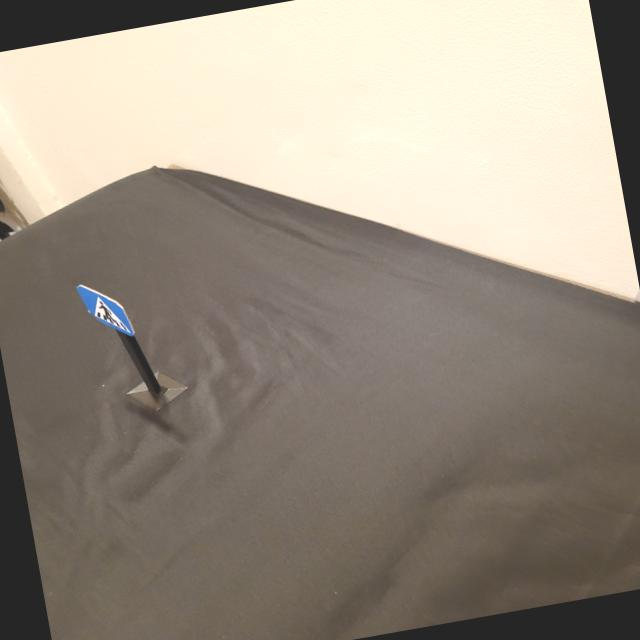crosswalk: (80, 277, 139, 346)
